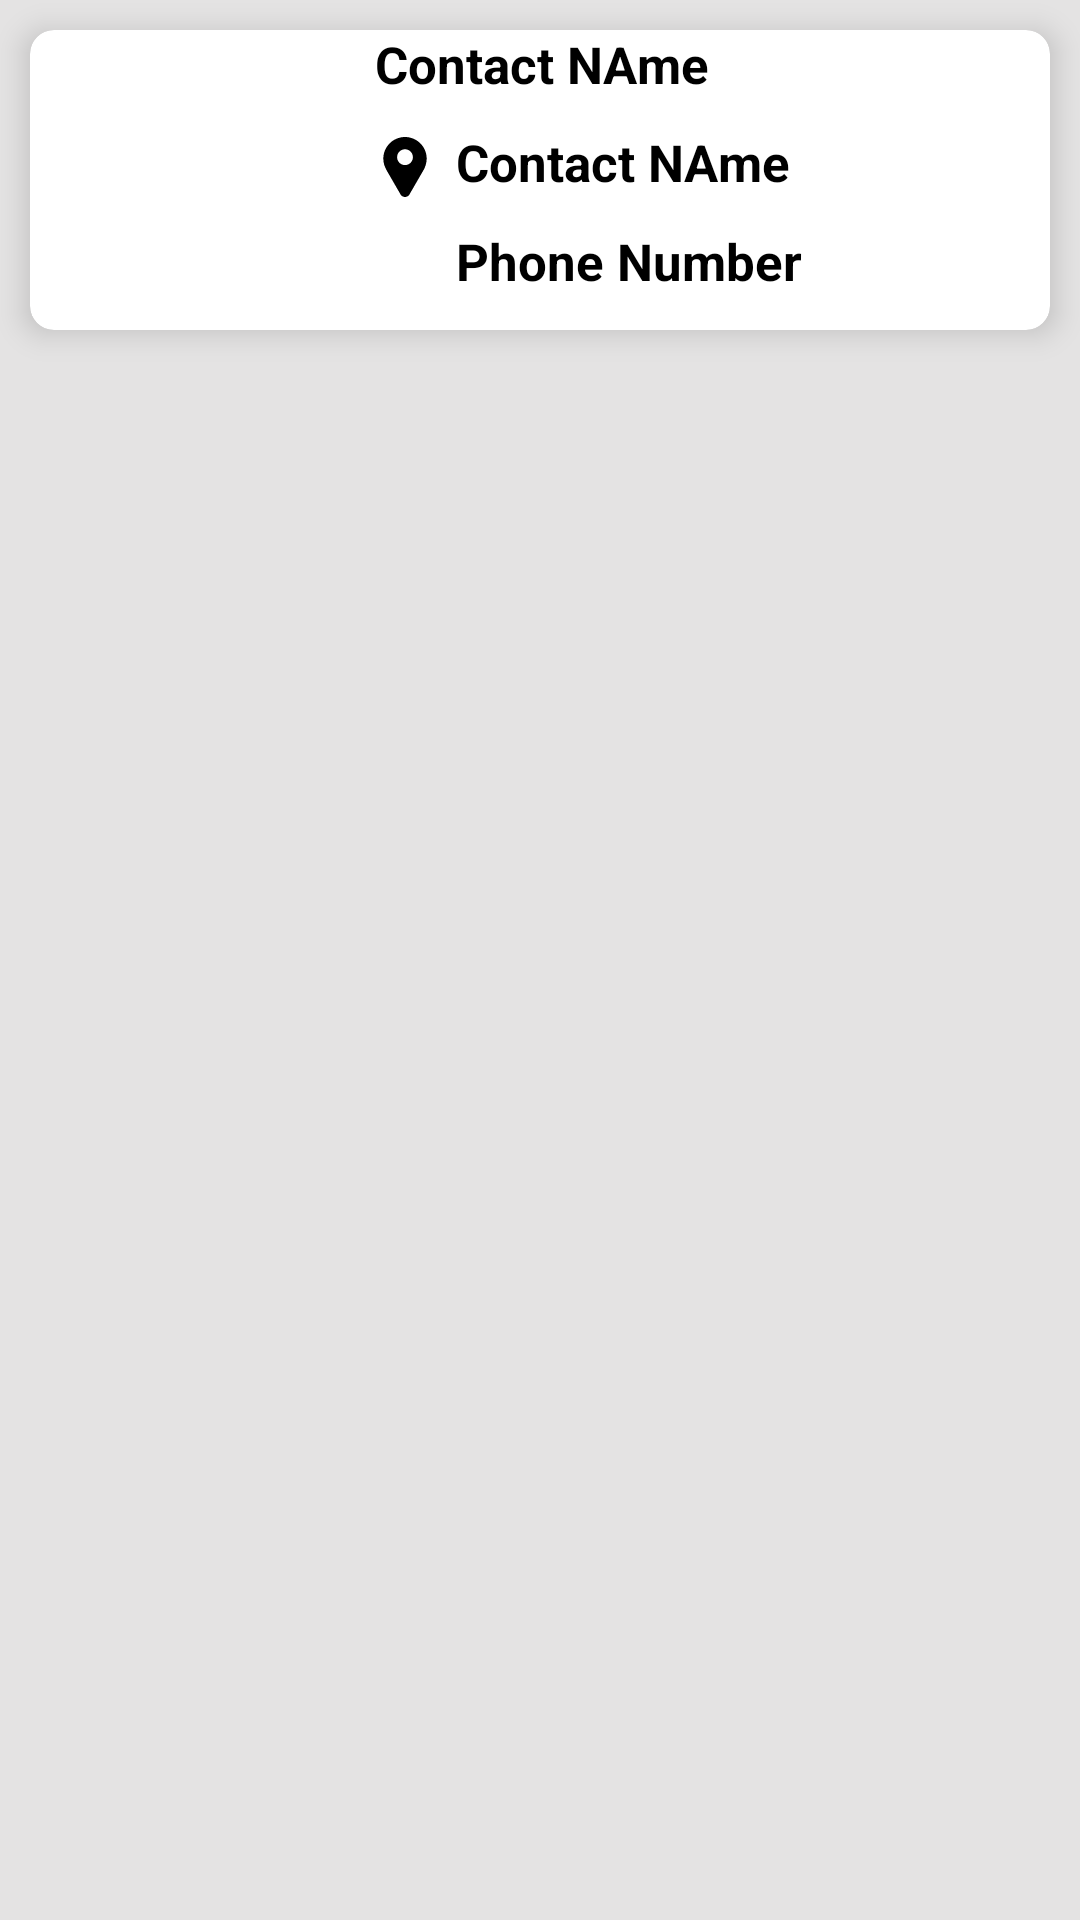

Named icons in this screenshot (1080 x 1920) and their centers, point (x, y):
location pin: point (405, 167)
